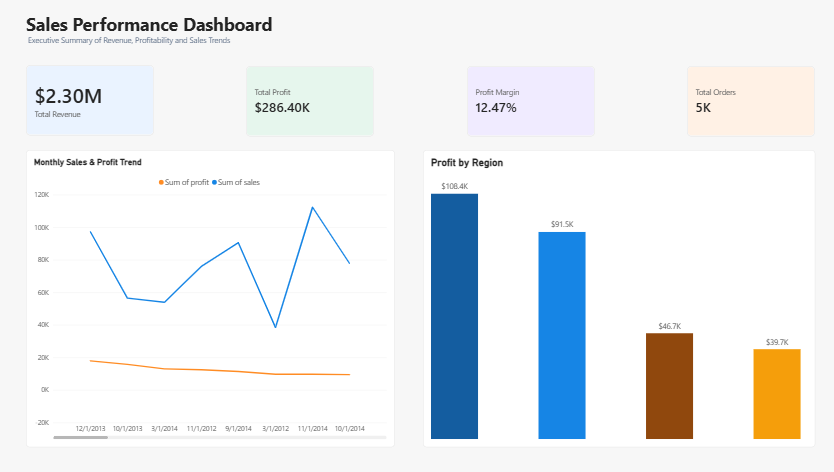

The dashboard page shown, as its layout file describes it:
{"tool":"powerbi","page":{"name":"Executive Summary","canvas":[1920,1080],"ordinal":0},"visuals":[{"type":"lineChart","title":"Monthly Sales & Profit Trend","fields":{"Category":["public vw_monthly_kpis.year_month"],"Y":["Sum(public vw_monthly_kpis.profit)","Sum(public vw_monthly_kpis.sales)"]},"box":[151.2,342.7,783.6,632.4],"z":4000},{"type":"clusteredColumnChart","title":"Profit by Region","fields":{"Category":["public sales_clean.region"],"Y":["public sales_clean.Total Profit"]},"box":[995.3,342.7,834,632.4],"z":5000},{"type":"cardVisual","fields":{"Data":["public sales_clean.Total Revenue"]},"box":[150.9,161.6,272,150],"z":5002},{"type":"cardVisual","fields":{"Data":["public sales_clean.Total Profit"]},"box":[619.4,163.7,272,150],"z":5003},{"type":"cardVisual","fields":{"Data":["public sales_clean.Profit Margin"]},"box":[1087.8,163.7,272,150],"z":5004},{"type":"cardVisual","fields":{"Data":["public sales_clean.Total Orders"]},"box":[1556.2,163.7,272,150],"z":5005},{"type":"textbox","box":[150.9,48.9,1677.4,89.3],"z":5006}]}

Visuals, with their boxes in screenshot pixels (x1, y1, x2, y2), scaled from the page's 1920x1080 canvas onto the 834x472 screenshot:
"Monthly Sales & Profit Trend" lineChart: x1=66 y1=150 x2=406 y2=426
"Profit by Region" clusteredColumnChart: x1=432 y1=150 x2=795 y2=426
cardVisual - public sales_clean.Total Revenue: x1=66 y1=71 x2=184 y2=136
cardVisual - public sales_clean.Total Profit: x1=269 y1=72 x2=387 y2=137
cardVisual - public sales_clean.Profit Margin: x1=473 y1=72 x2=591 y2=137
cardVisual - public sales_clean.Total Orders: x1=676 y1=72 x2=794 y2=137
textbox: x1=66 y1=21 x2=794 y2=60
